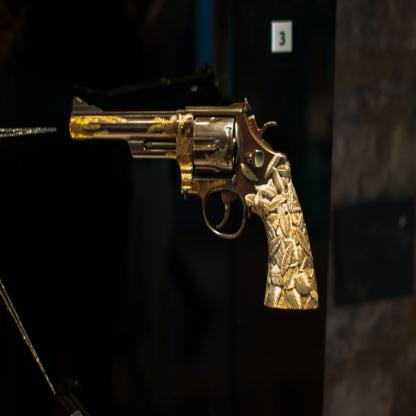Handgun: (69, 95, 318, 309)
